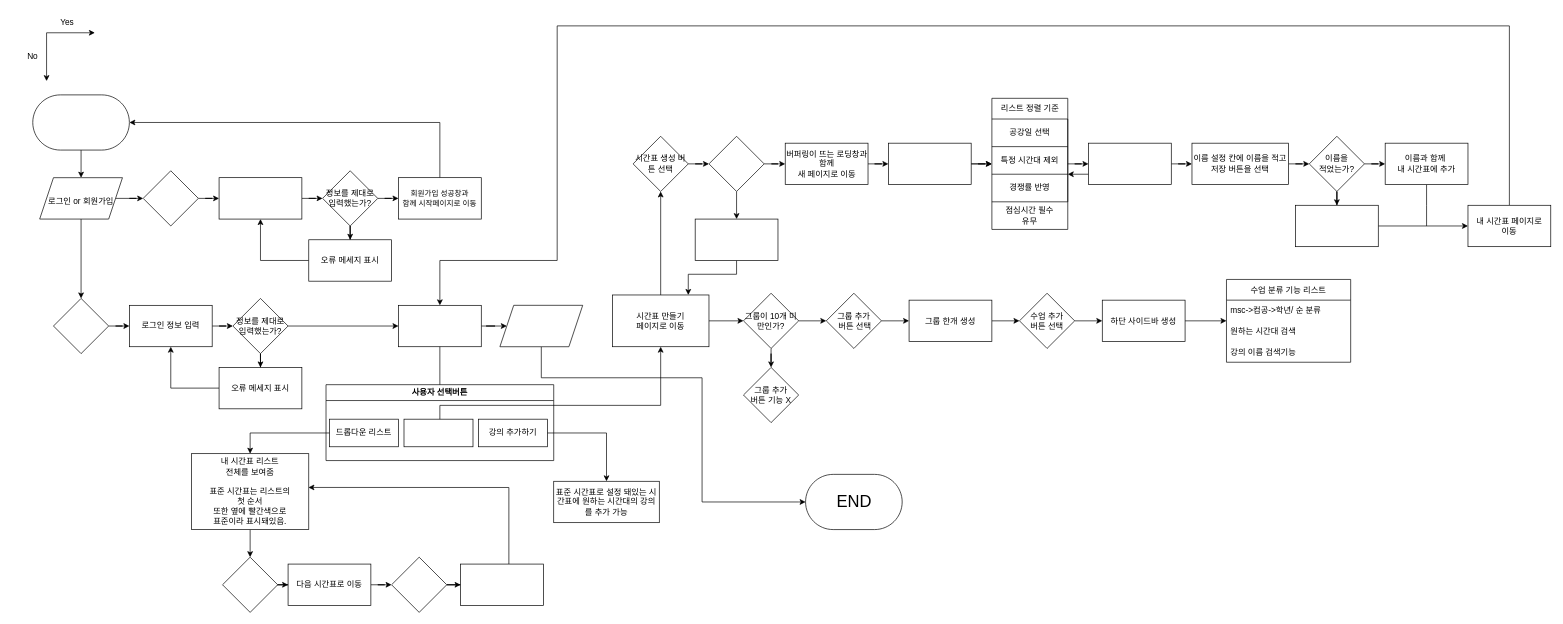
Image size: 1563x624. Some labels were removed from this diagram. The shapes that lost their labels are listed below. From the top down, each one's centre as x and y in pixels, then its label:
pixel 80 122: START
pixel 736 163: 생성 가능한 시간표가 있는가?
pixel 929 163: 가능한 모든 시간표를 리스트 형식으로 표시
pixel 1129 163: 정렬 기준에 따라 리스트 재배치
pixel 170 198: 회원가입을 선택 하였는가?
pixel 260 198: 회원가입 페이지에서 정보를 입력/가입신청
pixel 736 239: 생성 가능한 시간표가 없습니다. 오류메세지
pixel 1336 226: 기본시간표#라는 이름으로 내시간표에 추가
pixel 81 326: 로그인을 선택하였는가?
pixel 439 326: 내 시간표 화면으로 이동
pixel 541 326: 로그아웃 or 종료
pixel 438 432: 새 시간표 만들기
pixel 250 584: 다른 시간표를 눌렀는가
pixel 419 584: 표준 시간표 설정 버튼 선택
pixel 501 584: 해당 시간표가 표준 시간표로 설정
